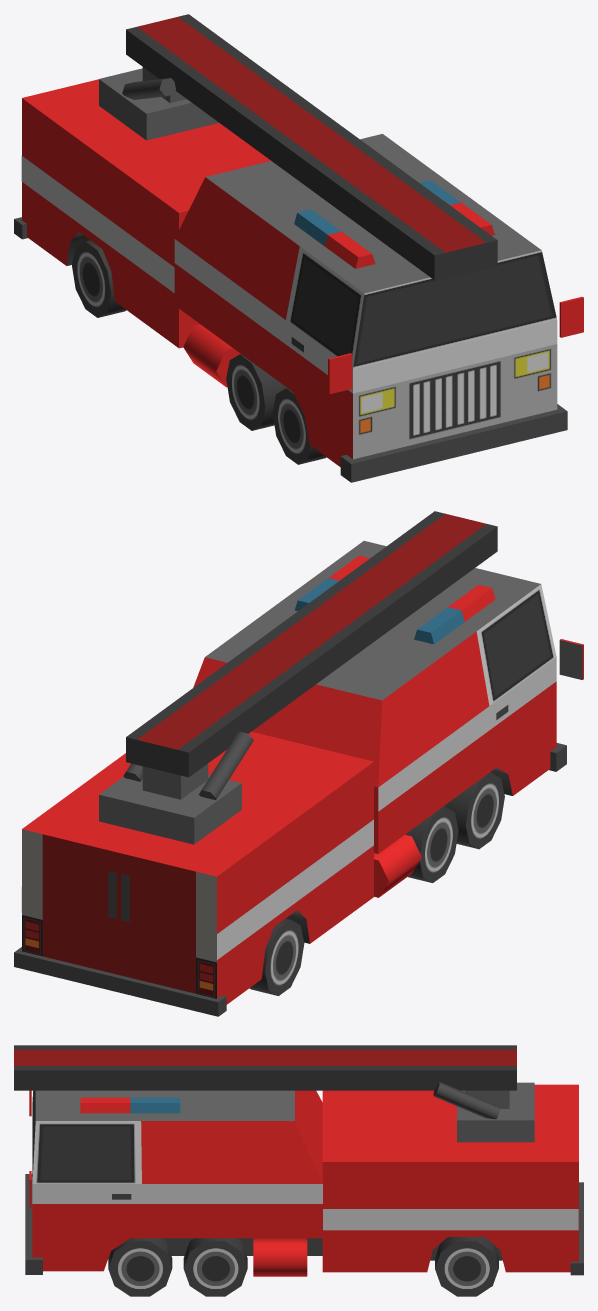
File: car 16 single.FBX
3 renders of one model, top to bottom at view 1: azimuth 30°, elevation 25°; view 2: azimuth 150°, elevation 25°; view 3: azimuth 270°, elevation 25°, orthographic. The views are drawn at different scales.
Visible parts, largest first — view 1: Box341; view 2: Box341; view 3: Box341.
Part boxes in pixels (<box>): Box341: <box>14,14,583,482</box>; Box341: <box>14,511,583,1016</box>; Box341: <box>14,1045,583,1296</box>.
Bounding box in the file's own units: 4.01 × 3.7 × 9.55.
1 material, 1 textured.
